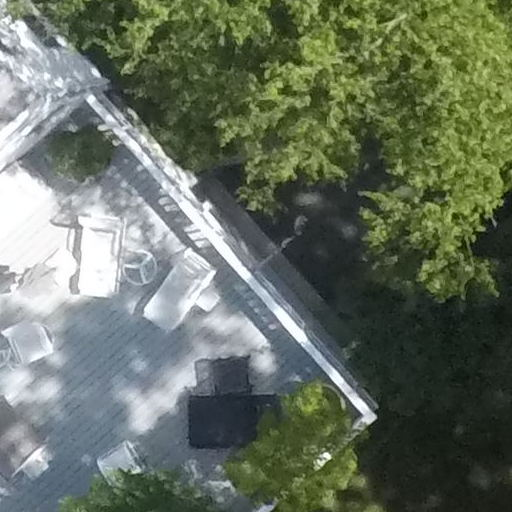chair: (62, 200, 128, 307)
porch: (1, 90, 387, 510)
